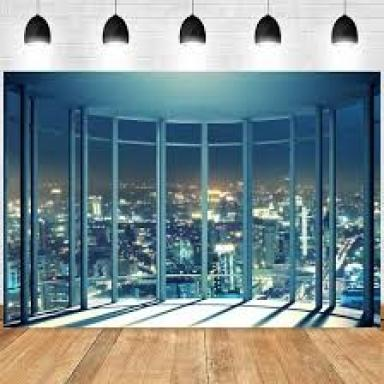glass_panel: (34, 99, 72, 312), (116, 120, 158, 303), (252, 117, 293, 302), (334, 101, 367, 314), (208, 122, 245, 298), (165, 123, 202, 298), (86, 111, 113, 307), (295, 110, 319, 307), (5, 86, 21, 322), (324, 108, 333, 305), (377, 82, 384, 324)
